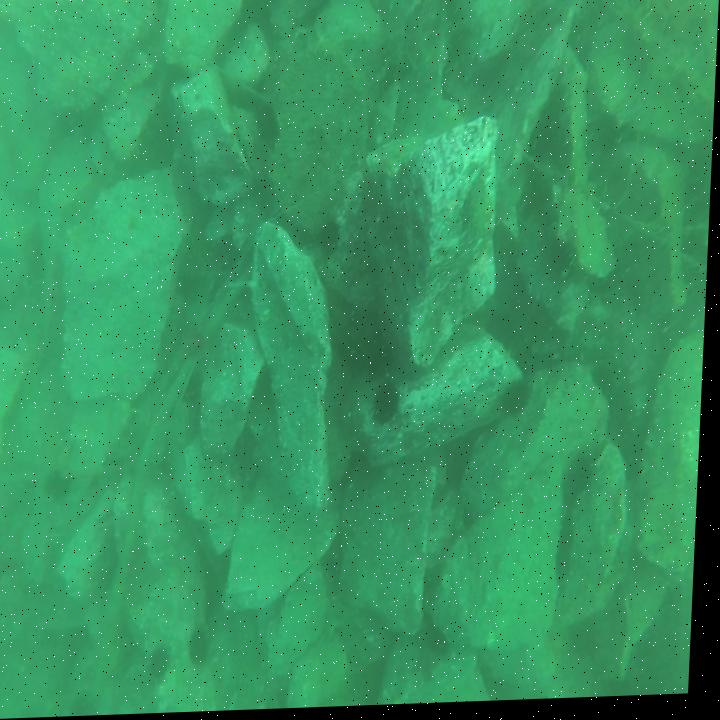echinus: (48, 464, 75, 505), (377, 385, 405, 424), (506, 384, 534, 422), (257, 106, 281, 145), (155, 645, 177, 686), (193, 627, 213, 671), (323, 219, 345, 257)
